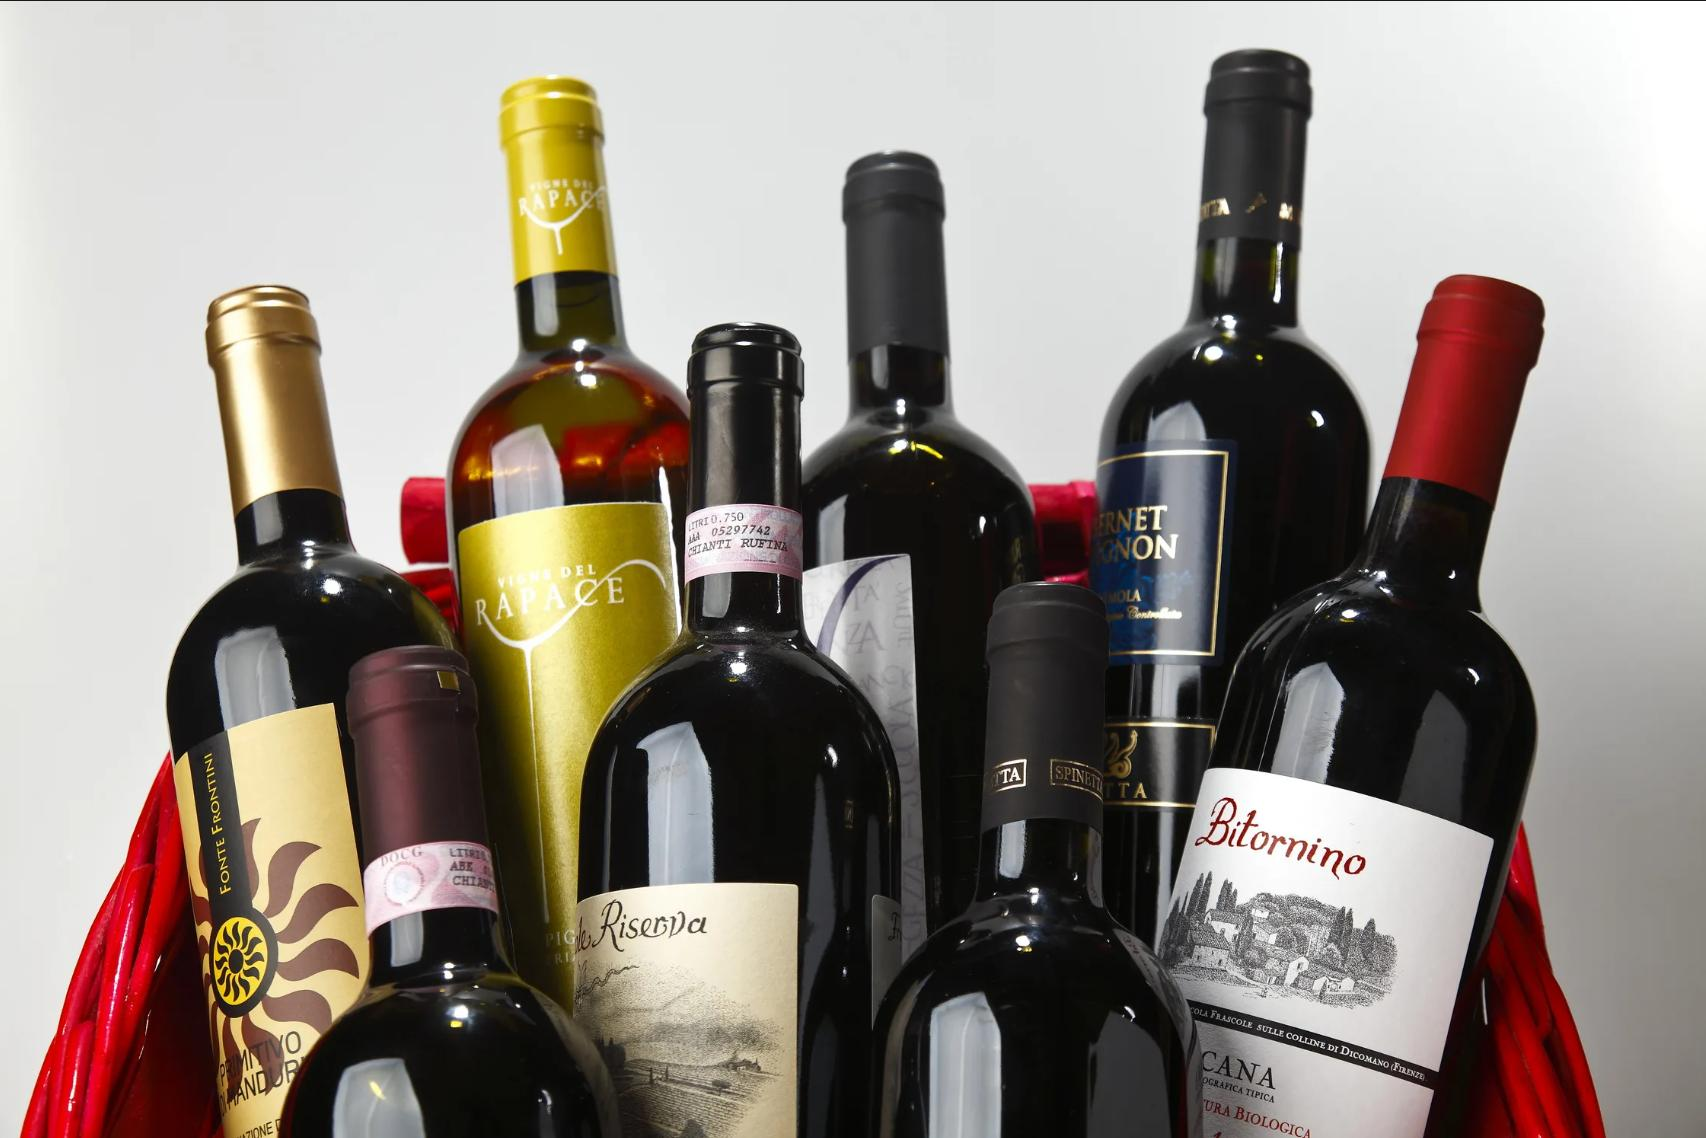wine bottle: (1151, 271, 1547, 1135), (569, 321, 907, 1137), (1084, 44, 1372, 950), (165, 282, 456, 1134), (445, 72, 692, 1012), (807, 150, 1043, 953), (863, 580, 1200, 1134), (279, 643, 622, 1138)
wine label: (1155, 763, 1495, 1137), (455, 497, 683, 998), (173, 701, 372, 1138), (567, 884, 800, 1138), (805, 554, 927, 959), (1085, 439, 1241, 671)
